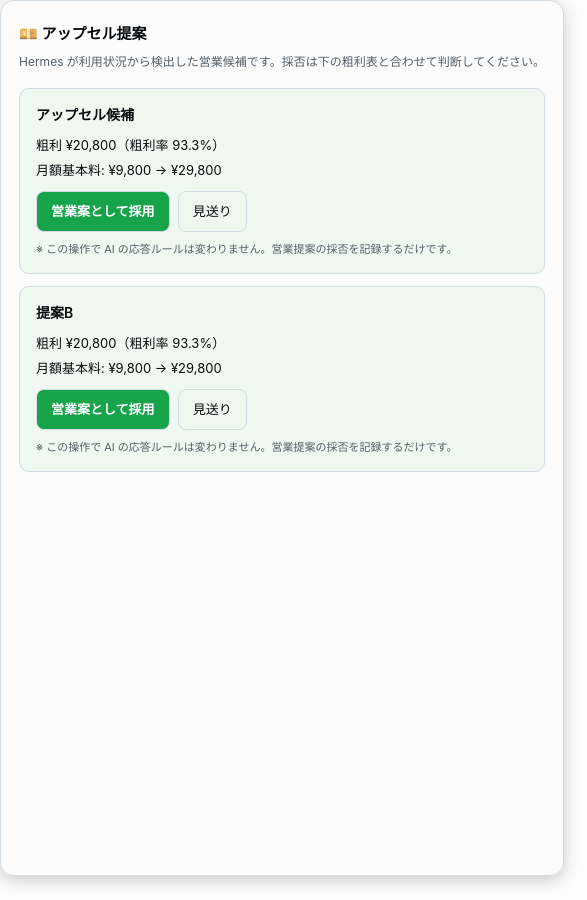
Scenario: UpsellProposalsSection › 複数提案が同時に表示され、片方だけ操作しても他方に影響しない
Expected: the text "提案B" is shown, [36,304,73,321]
Click the button "営業案として採用" below "アップセル候補". click: (103, 212)
box: [36,191,170,232]
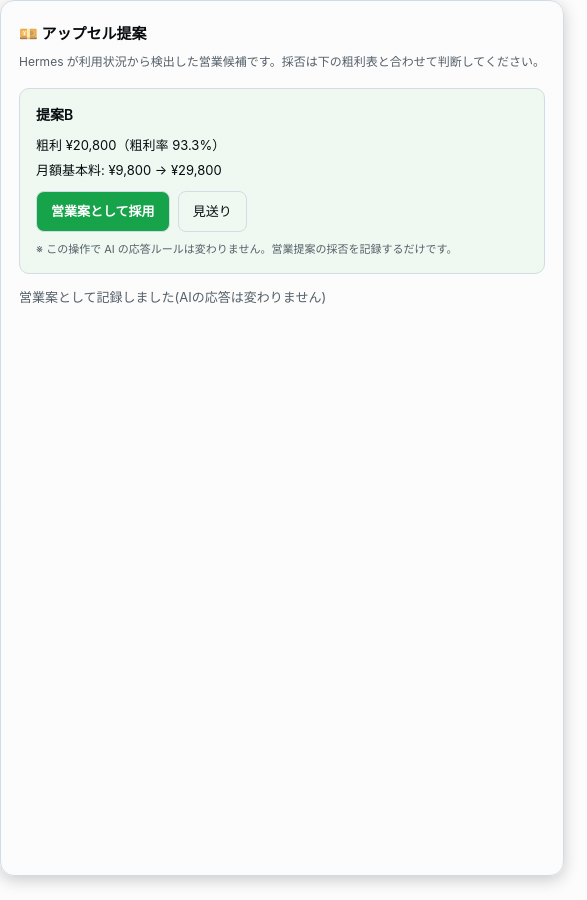
Expected: the text "提案B" is shown, [36,106,73,123]
Now the text "アップセル候補" is gone
